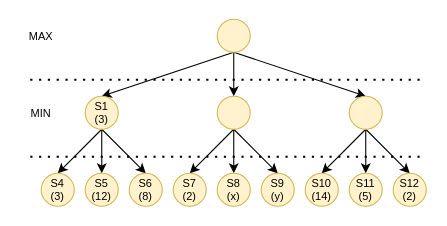
The diagram is 447 pixels wide and 226 high, and some of its shapes have lost their labels. The centre of each missing label's shape, as x and y in pixels:
S0 (3): the point at 233,35
S2 (2): the point at 233,112
S3 (2): the point at 365,112
